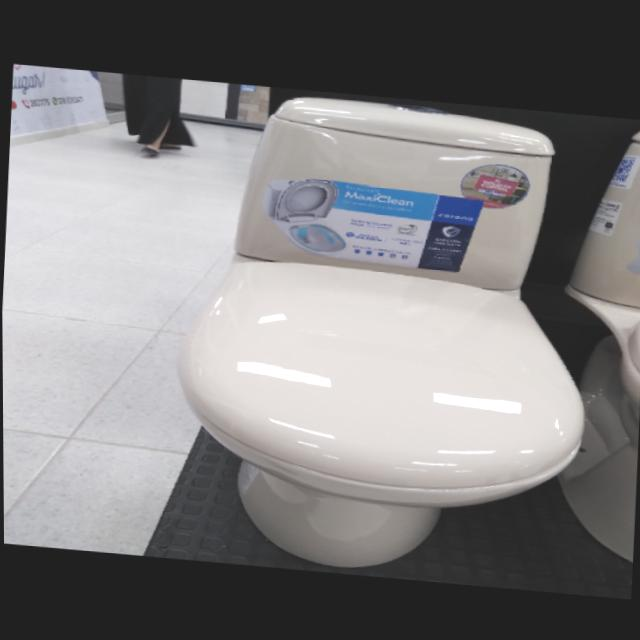toilet: (163, 82, 602, 584)
